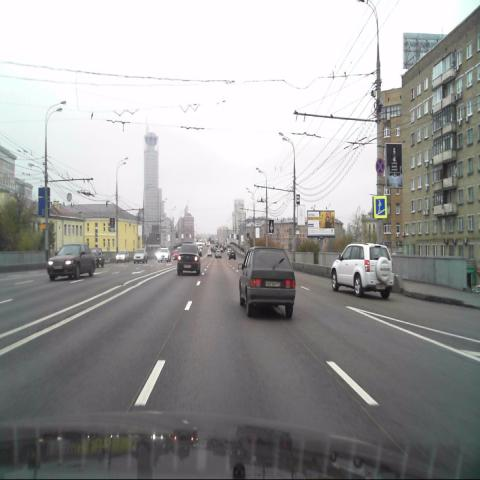6_6: (373, 195, 388, 219)
